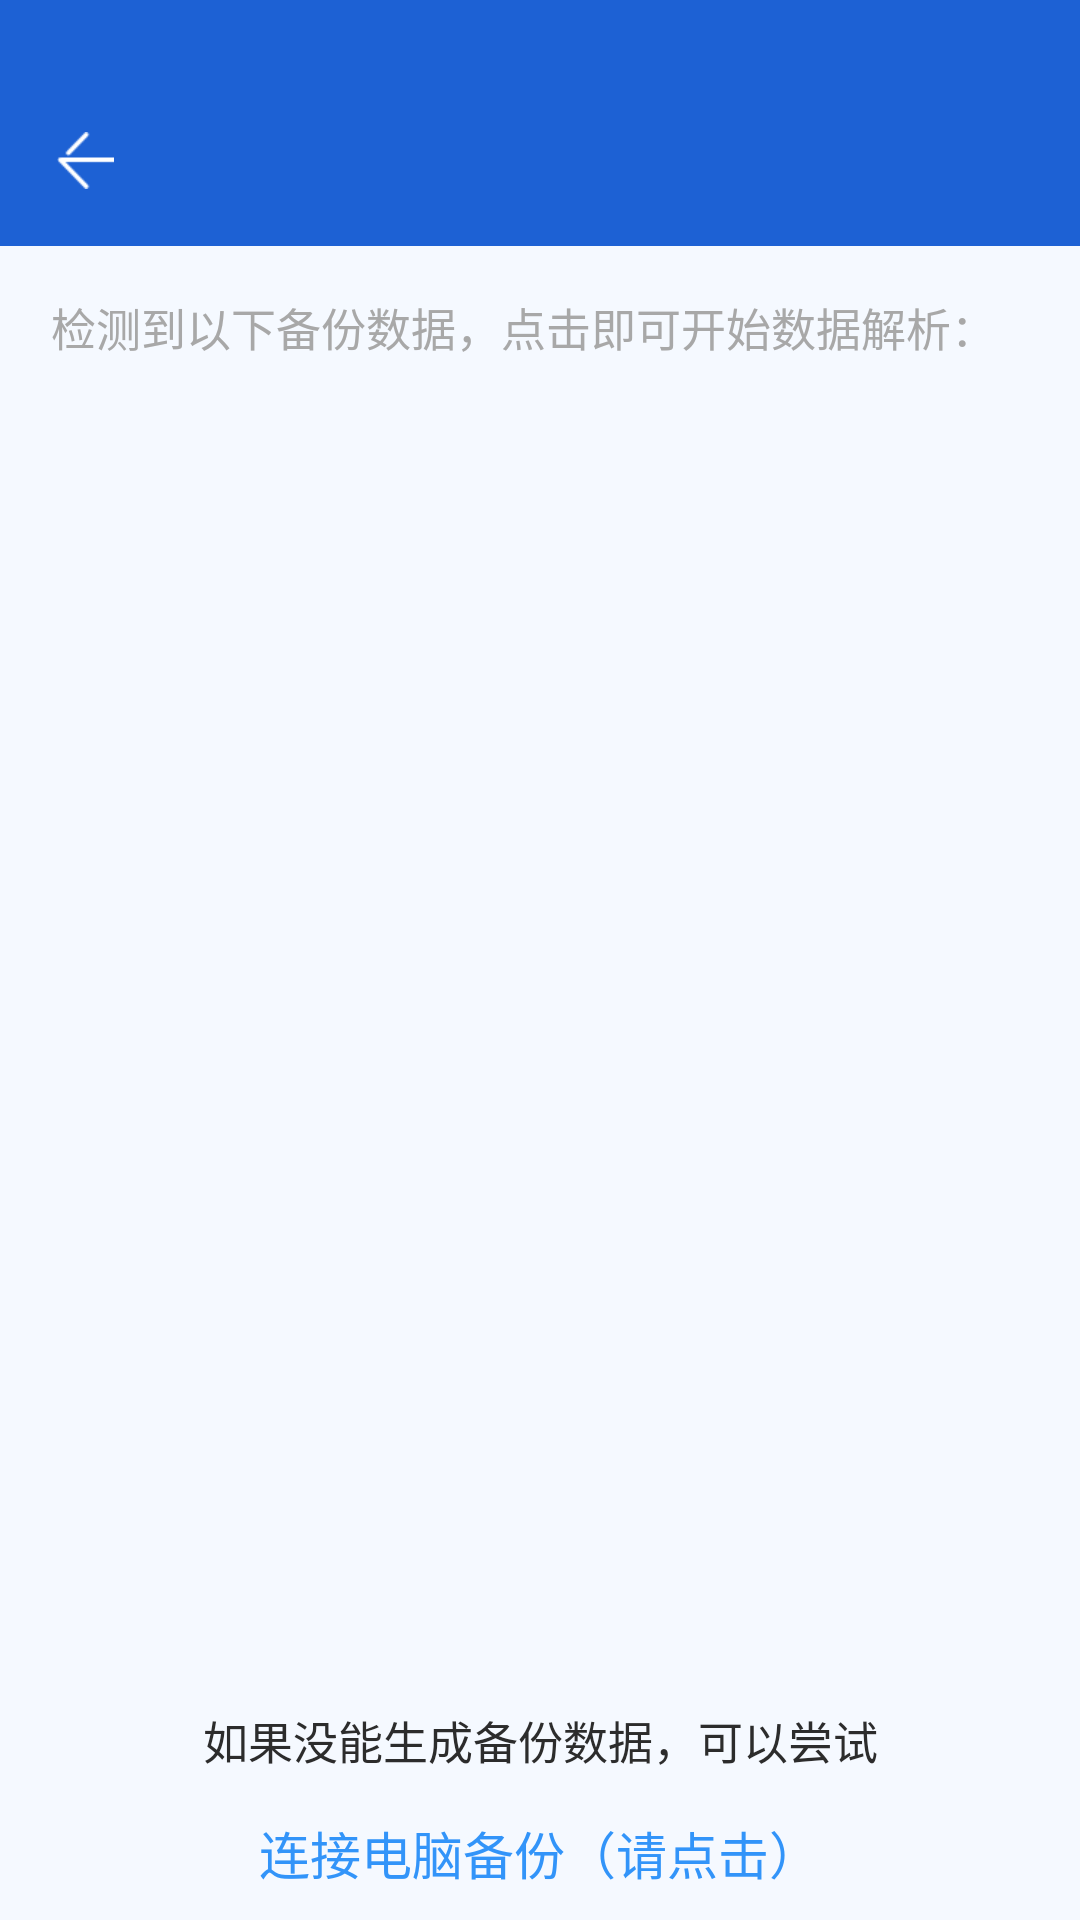

Screen size 1080 x 1920. Icon name, then its center in pixels as [x,y]:
back: [85,160]
